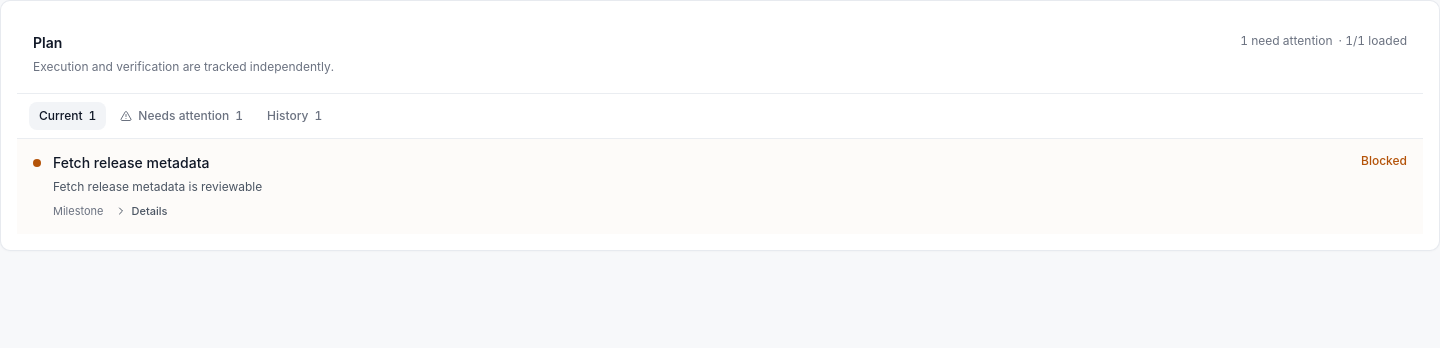
Test: renders a typed blocked delivery and its actionable capability fact
The image size is (1440, 348).
Expected: the text "Blocked" is shown, x1=1361 y1=153 x2=1407 y2=169
Click the button "Details": [141, 211] box x1=116 y1=203 x2=167 y2=220
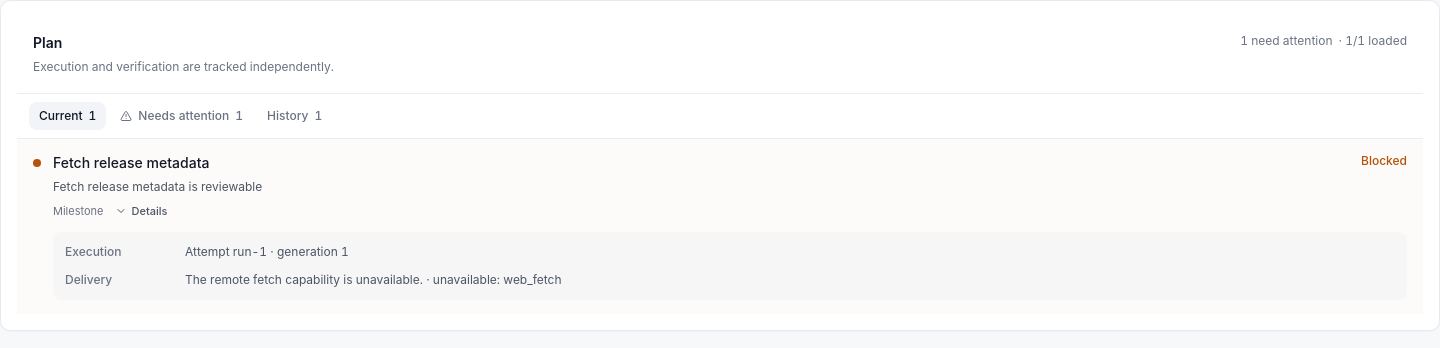
Now the text "remote fetch capability is unavailable" is shown, box x1=185 y1=272 x2=423 y2=286
Now the text "unavailable: web_fetch" is shown, box x1=423 y1=272 x2=562 y2=286
